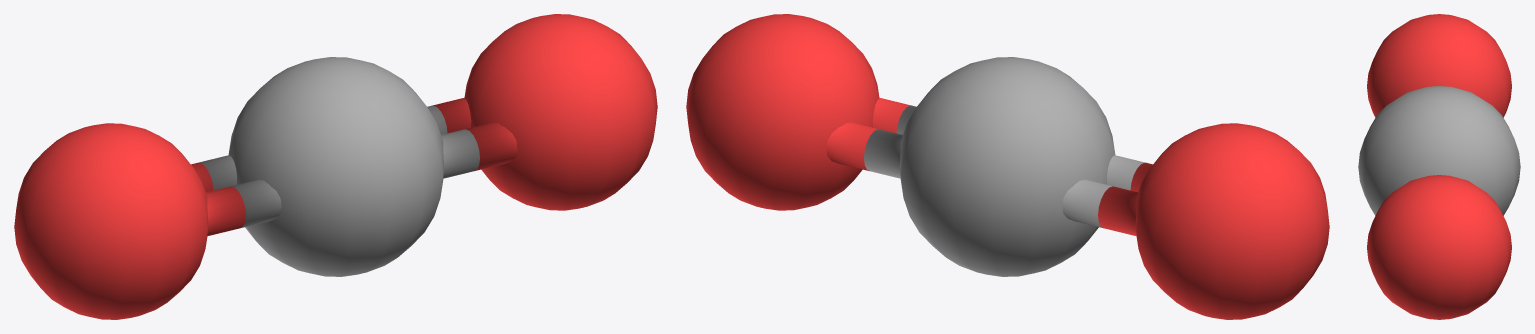
Rendered from dioxiodo de carbono.glb.
3 views of the same model, side by side, from view 1: azimuth 30°, elevation 25°; view 2: azimuth 150°, elevation 25°; view 3: azimuth 270°, elevation 25° (orthographic). The views are drawn at different scales.
Visible parts, largest first — view 1: Shape_Sphere.001, Shape_Sphere.002, Shape_Sphere, Shape_Cylinder, Shape_Cylinder.006, Shape_Cylinder.004, Shape_Cylinder.002, Shape_Cylinder.001, Shape_Cylinder.005; view 2: Shape_Sphere.001, Shape_Sphere.002, Shape_Sphere, Shape_Cylinder.001, Shape_Cylinder.007, Shape_Cylinder.005, Shape_Cylinder.003, Shape_Cylinder, Shape_Cylinder.004; view 3: Shape_Sphere, Shape_Sphere.001, Shape_Sphere.002.
Part boxes in pixels (x1,y1,x2,y2): Shape_Sphere.001: (228,57,444,276); Shape_Sphere.002: (14,123,208,319); Shape_Sphere: (464,14,657,210); Shape_Cylinder: (465,122,517,171); Shape_Cylinder.006: (206,186,245,235); Shape_Cylinder.004: (231,179,281,228); Shape_Cylinder.002: (441,129,479,178); Shape_Cylinder.001: (433,97,471,133); Shape_Cylinder.005: (199,155,236,190); Shape_Sphere.001: (899,57,1115,276); Shape_Sphere.002: (1135,123,1329,319); Shape_Sphere: (686,14,879,210); Shape_Cylinder.001: (826,122,878,171); Shape_Cylinder.007: (1098,186,1137,235); Shape_Cylinder.005: (1062,179,1112,228); Shape_Cylinder.003: (864,129,902,178); Shape_Cylinder: (872,97,910,133); Shape_Cylinder.004: (1107,155,1144,190); Shape_Sphere: (1367,175,1511,319); Shape_Sphere.001: (1358,86,1520,215); Shape_Sphere.002: (1367,14,1511,117).
Size of the model in its own units: 3.63 by 1.12 by 1.12.
